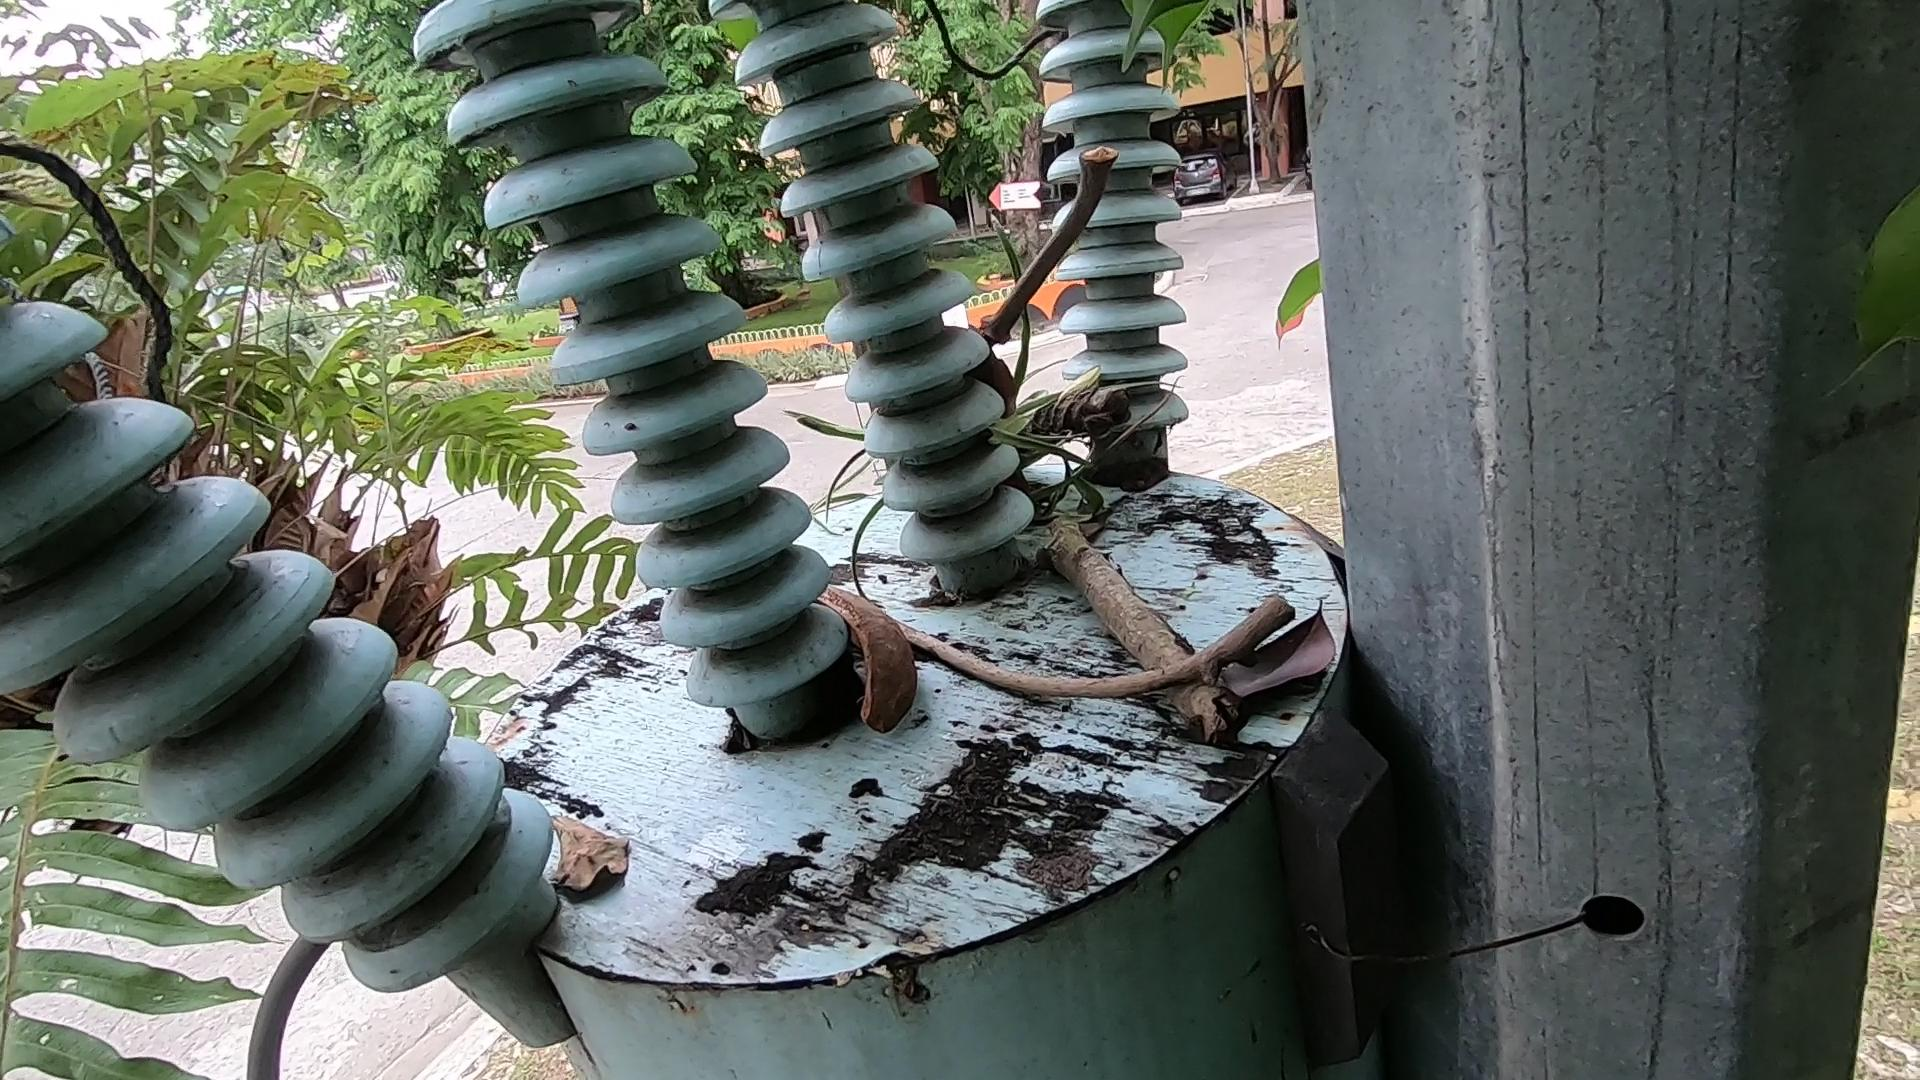branch with leaves: (897, 222, 1241, 799)
leaf: (1191, 589, 1399, 789), (504, 765, 640, 934)
mahogany fruit: (978, 316, 1060, 517), (822, 571, 916, 742)
tree branch: (862, 593, 1304, 778), (939, 92, 1178, 382)
